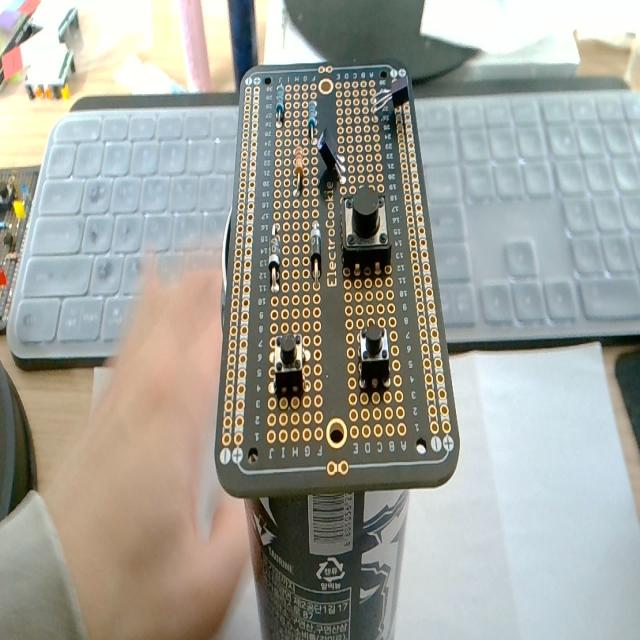diode: (269, 225, 281, 290), (310, 221, 322, 280)
resistor: (292, 145, 304, 196), (275, 82, 285, 122), (308, 101, 317, 136)
switch: (342, 188, 390, 272), (357, 322, 389, 390), (273, 331, 306, 395)
transistor: (368, 78, 413, 126), (316, 127, 346, 187)
